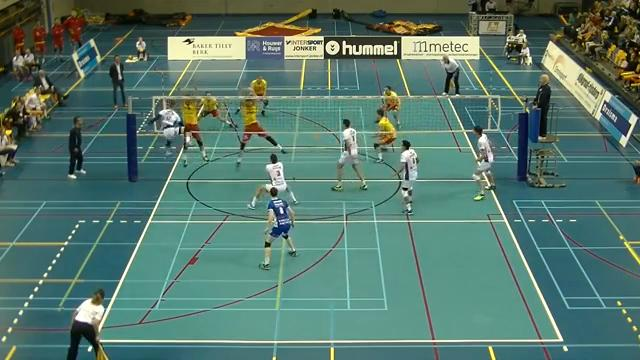attacco: (137, 95, 197, 162)
